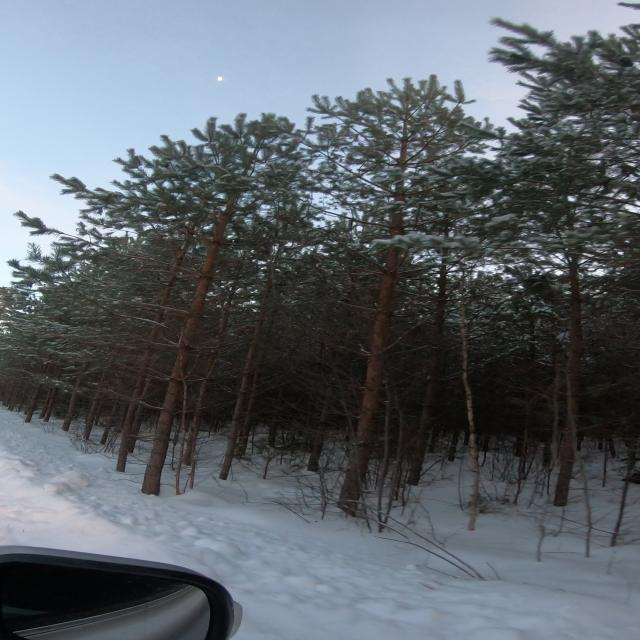trees: (142, 196, 236, 495), (338, 248, 398, 514), (219, 285, 270, 480), (407, 264, 447, 485), (553, 250, 582, 507), (460, 272, 479, 531), (116, 344, 154, 472), (183, 347, 220, 472), (155, 241, 188, 323), (307, 388, 330, 473), (62, 365, 87, 432), (516, 388, 531, 492), (83, 388, 103, 440), (551, 354, 560, 468), (24, 383, 42, 423), (219, 302, 230, 335), (274, 387, 284, 417), (268, 426, 278, 446), (149, 326, 161, 342), (526, 356, 531, 374)
